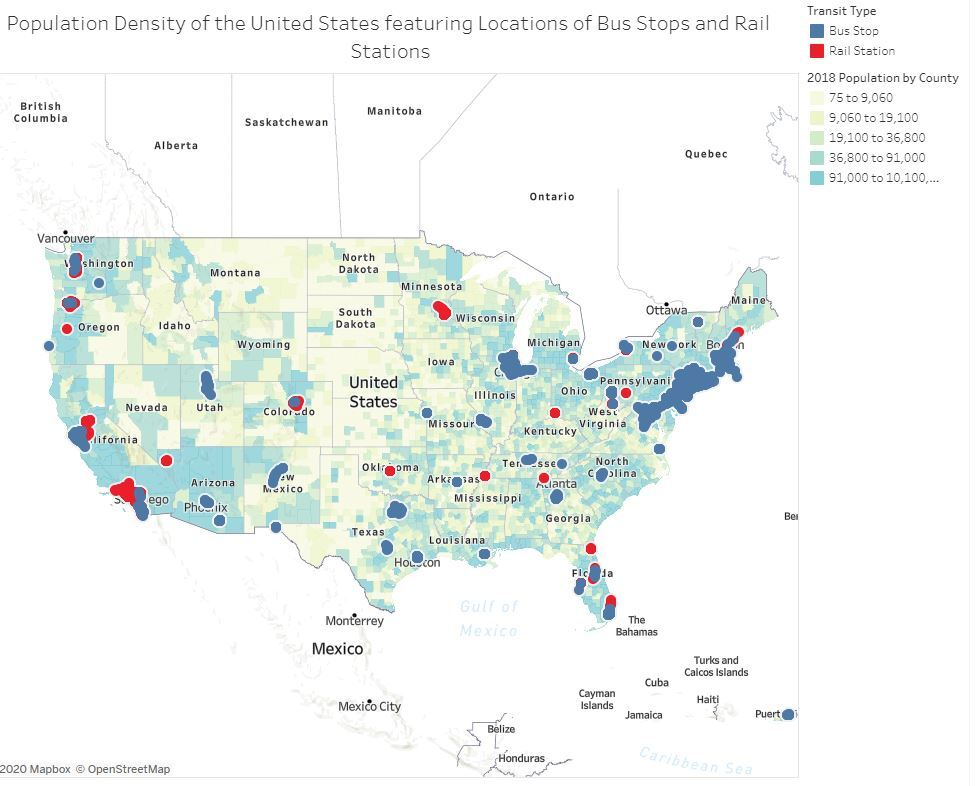

This screenshot's page, from the dashboard's own definition file:
{"tool":"tableau","page":{"name":"Population Density","canvas":[1000,800],"ordinal":0},"visuals":[{"type":"worksheet","box":[0,0,1000,800]},{"type":"worksheet","param":"horz","box":[8,8,984,784]},{"type":"worksheet","box":[8,8,824,784]},{"type":"worksheet","title":"Contiguous","mark":"Automatic","rows":["latitude"],"cols":["longitude"],"box":[8,8,824,784]},{"type":"worksheet","param":"vert","box":[832,8,160,784]},{"type":"worksheet","title":"Contiguous","mark":"Automatic","rows":["latitude"],"cols":["longitude"],"param":"[federated.1qglbee0ilde8g1547wo10oz2gdf].[none:Calculation_1778358951341711360:n","box":[832,8,160,66]},{"type":"worksheet","title":"Contiguous","mark":"Automatic","rows":["latitude"],"cols":["longitude"],"box":[832,74,160,126]}]}

Visuals, with their boxes in screenshot pixels (x1, y1, x2, y2), scaled from the page's 1000x800 canvas onto the 975x786 screenshot:
worksheet: pyautogui.locateOnScreen(0, 0, 974, 785)
worksheet: pyautogui.locateOnScreen(8, 8, 967, 778)
worksheet: pyautogui.locateOnScreen(8, 8, 811, 778)
"Contiguous" worksheet: pyautogui.locateOnScreen(8, 8, 811, 778)
worksheet: pyautogui.locateOnScreen(811, 8, 967, 778)
"Contiguous" worksheet: pyautogui.locateOnScreen(811, 8, 967, 73)
"Contiguous" worksheet: pyautogui.locateOnScreen(811, 73, 967, 196)
